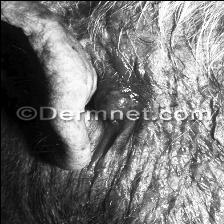Potentially Malignant Skin Tumors: (76, 78, 146, 124)
